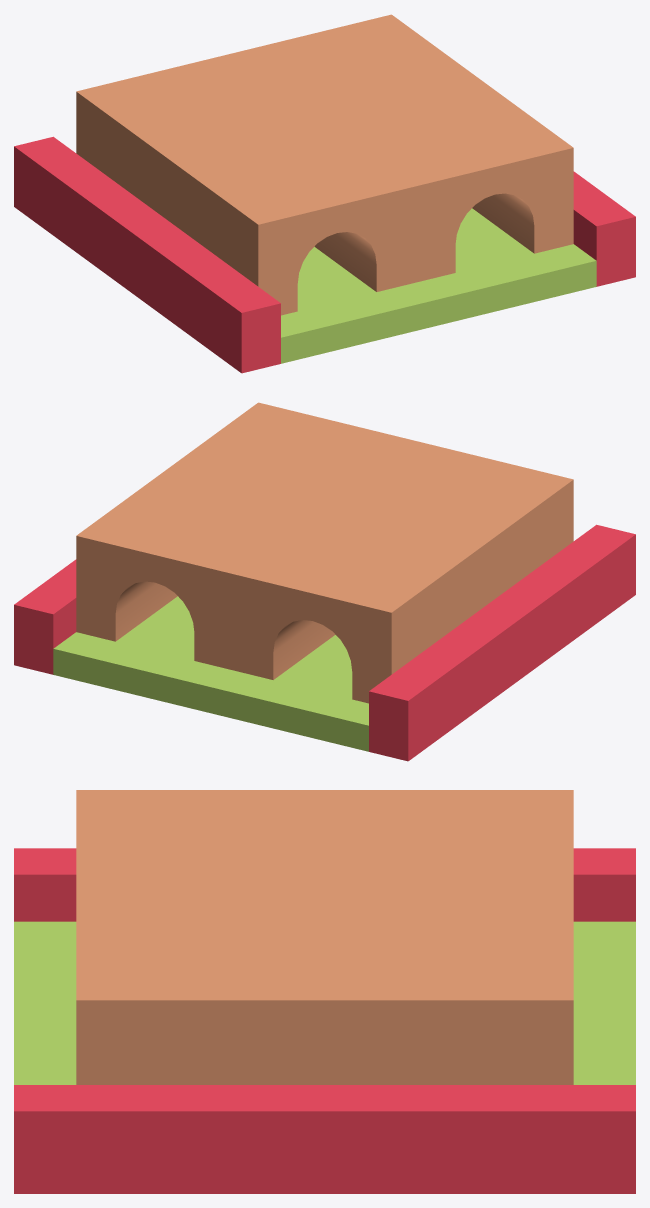
Rendered from tunnelDouble.fbx.
3 views of the same model, one above another, from view 1: azimuth 30°, elevation 25°; view 2: azimuth 150°, elevation 25°; view 3: azimuth 270°, elevation 25° (orthographic). The views are drawn at different scales.
Visible parts, largest first — view 1: tunnelDouble; view 2: tunnelDouble; view 3: tunnelDouble.
Boxes of the visible parts, x1,y1,x2,y2 form: tunnelDouble: [14, 14, 635, 373]; tunnelDouble: [14, 402, 635, 761]; tunnelDouble: [14, 790, 635, 1193].
Size of the model in its own units: 10 by 2.97 by 10.
